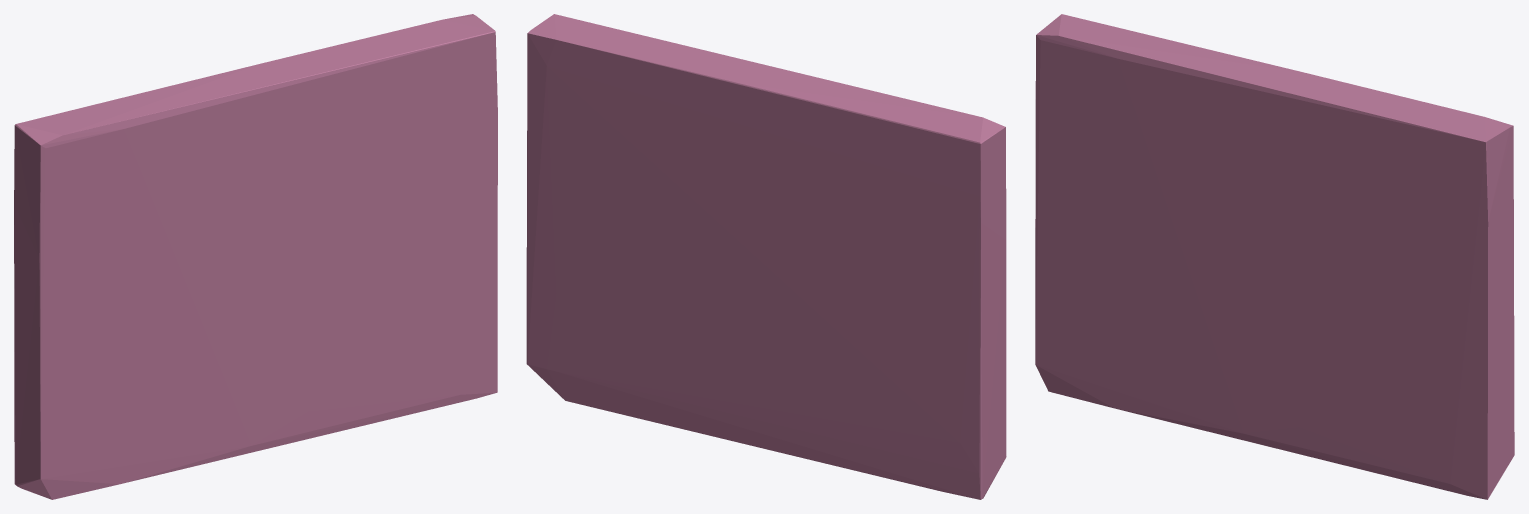
Rendered from pallet_wood_recycled_a05.glb.
3 views of the same model, side by side, from view 1: azimuth 30°, elevation 25°; view 2: azimuth 150°, elevation 25°; view 3: azimuth 330°, elevation 25° (orthographic).
Visible parts, largest first — view 1: geometry_0; view 2: geometry_0; view 3: geometry_0.
Part boxes in pixels (bbox=[...]): geometry_0: bbox=[14, 14, 497, 499]; geometry_0: bbox=[526, 14, 1006, 499]; geometry_0: bbox=[1035, 14, 1514, 499].
Size of the model in its own units: 0.4787 by 0.3632 by 0.0483.
